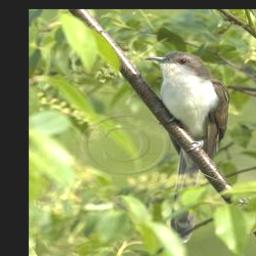Cuckoo: (144, 45, 228, 218)
